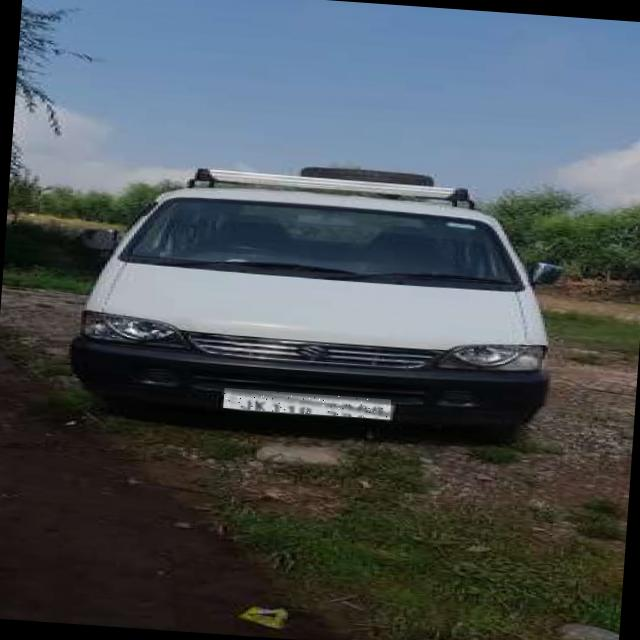Plate: (224, 389, 392, 421)
